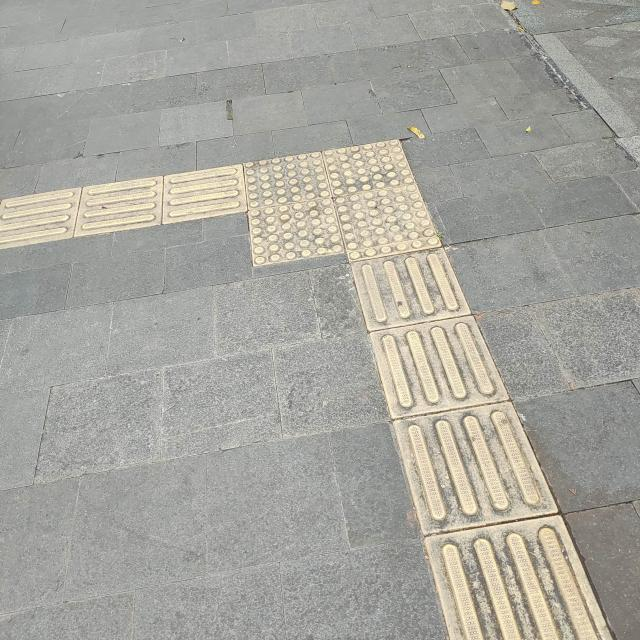kiri: (64, 122, 510, 326)
